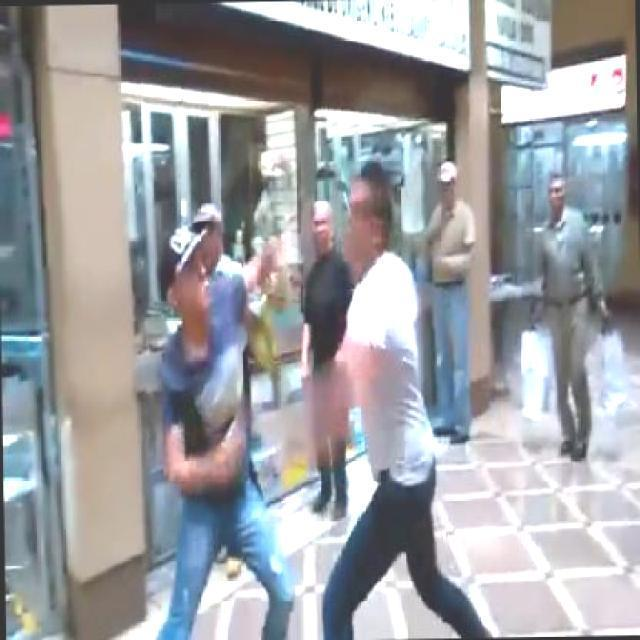fight: (154, 154, 451, 638)
